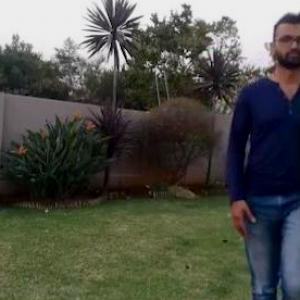follow: (231, 33, 299, 299)
